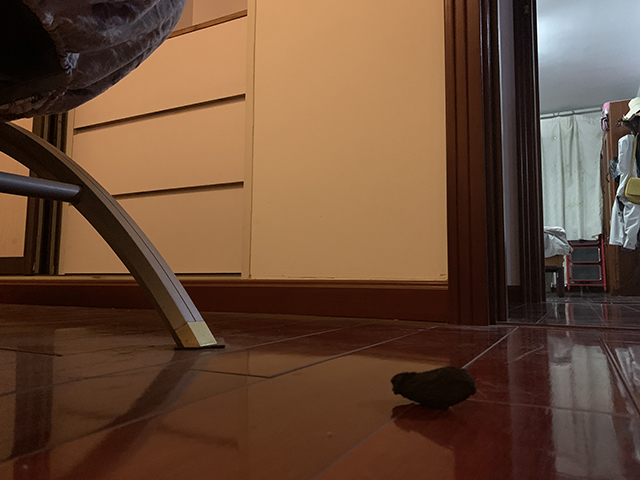cabinet: (1, 1, 497, 328)
feces: (389, 365, 478, 407)
